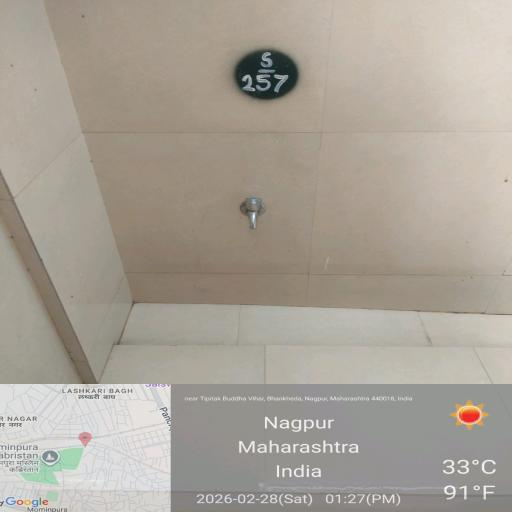clean_floor: (20, 31, 462, 490)
